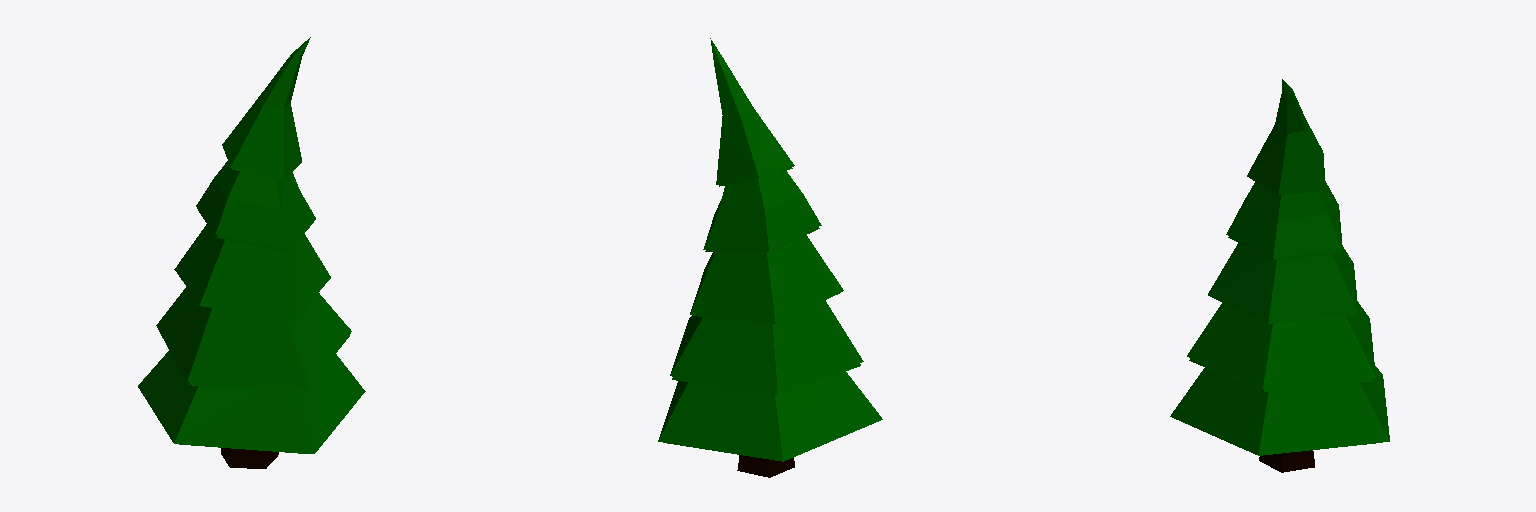
The model's file is Tree2.obj.
3 views of the same model, side by side, from view 1: azimuth 30°, elevation 25°; view 2: azimuth 150°, elevation 25°; view 3: azimuth 270°, elevation 25° (orthographic).
Visible parts, largest first — view 1: Cylinder_001; view 2: Cylinder_001; view 3: Cylinder_001.
Part boxes in pixels (x1,y1,x2,y2): Cylinder_001: (138, 37, 365, 468); Cylinder_001: (658, 38, 882, 477); Cylinder_001: (1170, 79, 1389, 472).
Bounding box in the file's own units: 2.05 × 4.07 × 1.98.